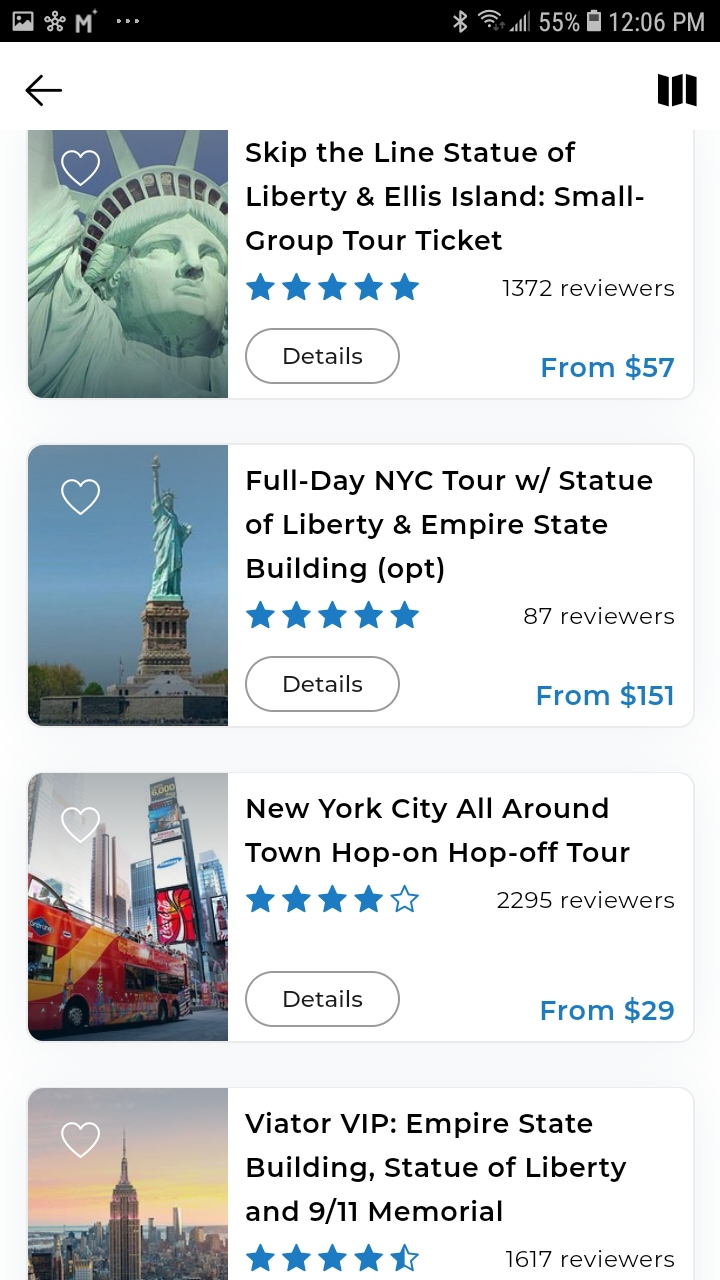Icon: (246, 272, 420, 302), (246, 1243, 420, 1272), (245, 601, 420, 629), (246, 885, 419, 913), (61, 806, 101, 843), (62, 1121, 101, 1158), (62, 479, 101, 515), (62, 151, 101, 187), (658, 74, 698, 109), (26, 75, 64, 108)
Image: (29, 447, 229, 727), (29, 774, 229, 1042), (29, 131, 229, 399), (28, 1088, 228, 1280)
Text: (245, 467, 653, 585), (246, 141, 644, 257), (245, 1111, 628, 1225), (245, 796, 631, 868), (537, 681, 672, 709), (541, 996, 675, 1024), (542, 354, 674, 381), (498, 891, 675, 910), (505, 1249, 675, 1268), (502, 279, 675, 297), (523, 607, 674, 626)
TextButton: (245, 970, 401, 1028), (245, 656, 401, 713), (245, 329, 401, 386)
UpperTaskBar: (1, 1, 720, 43)
